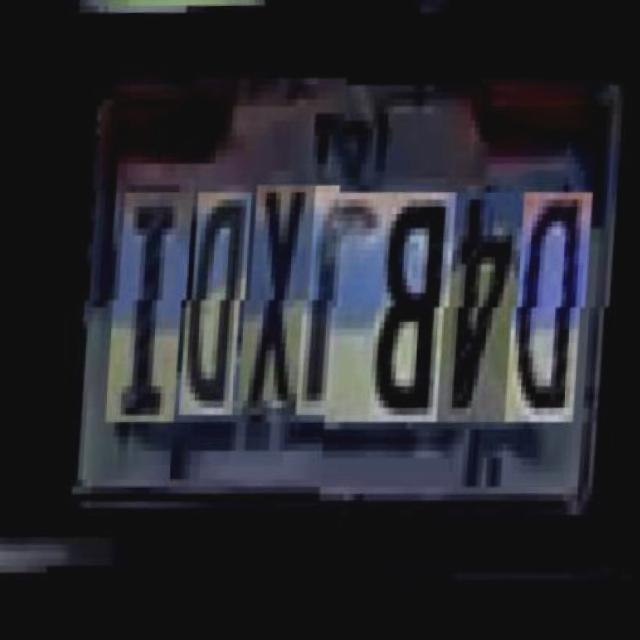4: (436, 188, 515, 420)
b: (367, 187, 448, 419)
d: (503, 188, 584, 419), (178, 194, 243, 420)
i: (104, 194, 185, 426)
j: (294, 187, 380, 419)
x: (235, 187, 307, 419)
